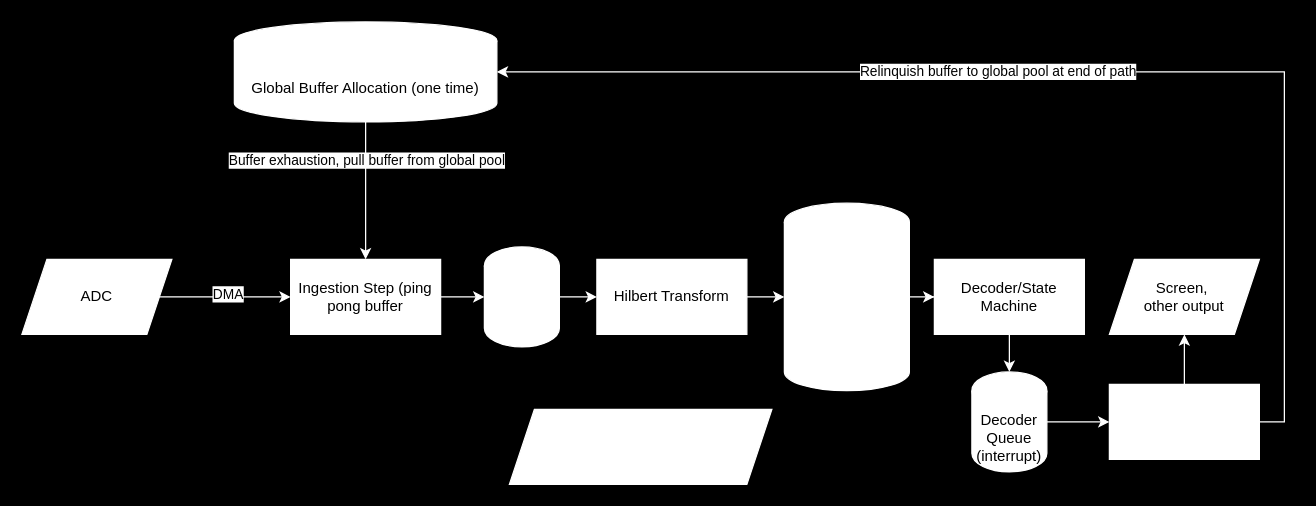
This 1316x506 diagram has some shape labels left out. Here are the shapes that lost their labels. From the top down, the box of each, then its label:
(483, 246, 559, 347): Ingest Queue (interrupt)
(783, 202, 909, 391): Intercore queue (atomic)
(1108, 383, 1259, 459): Image Synthesis, write to screen
(508, 408, 772, 484): External IO interrupts (interrupt main compute path)
